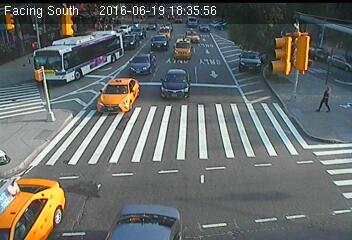neg: (25, 52, 47, 81), (304, 36, 323, 62), (321, 49, 340, 73)
pos: (315, 83, 337, 113)
